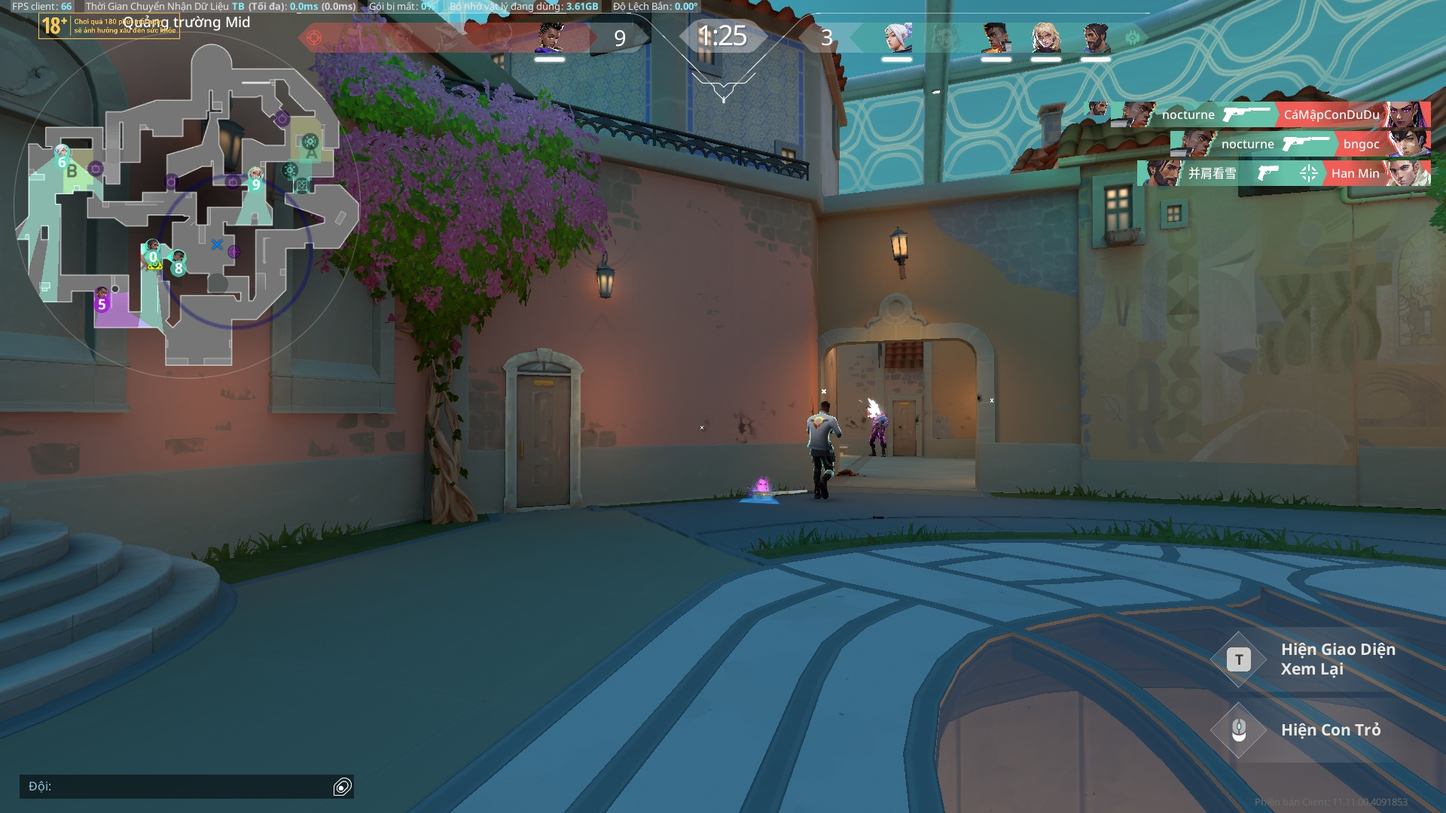body: (873, 416, 888, 430)
head: (876, 410, 885, 417)
